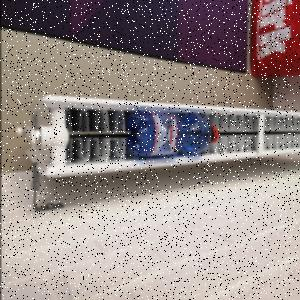Plastic-bottle: (127, 111, 220, 158)
